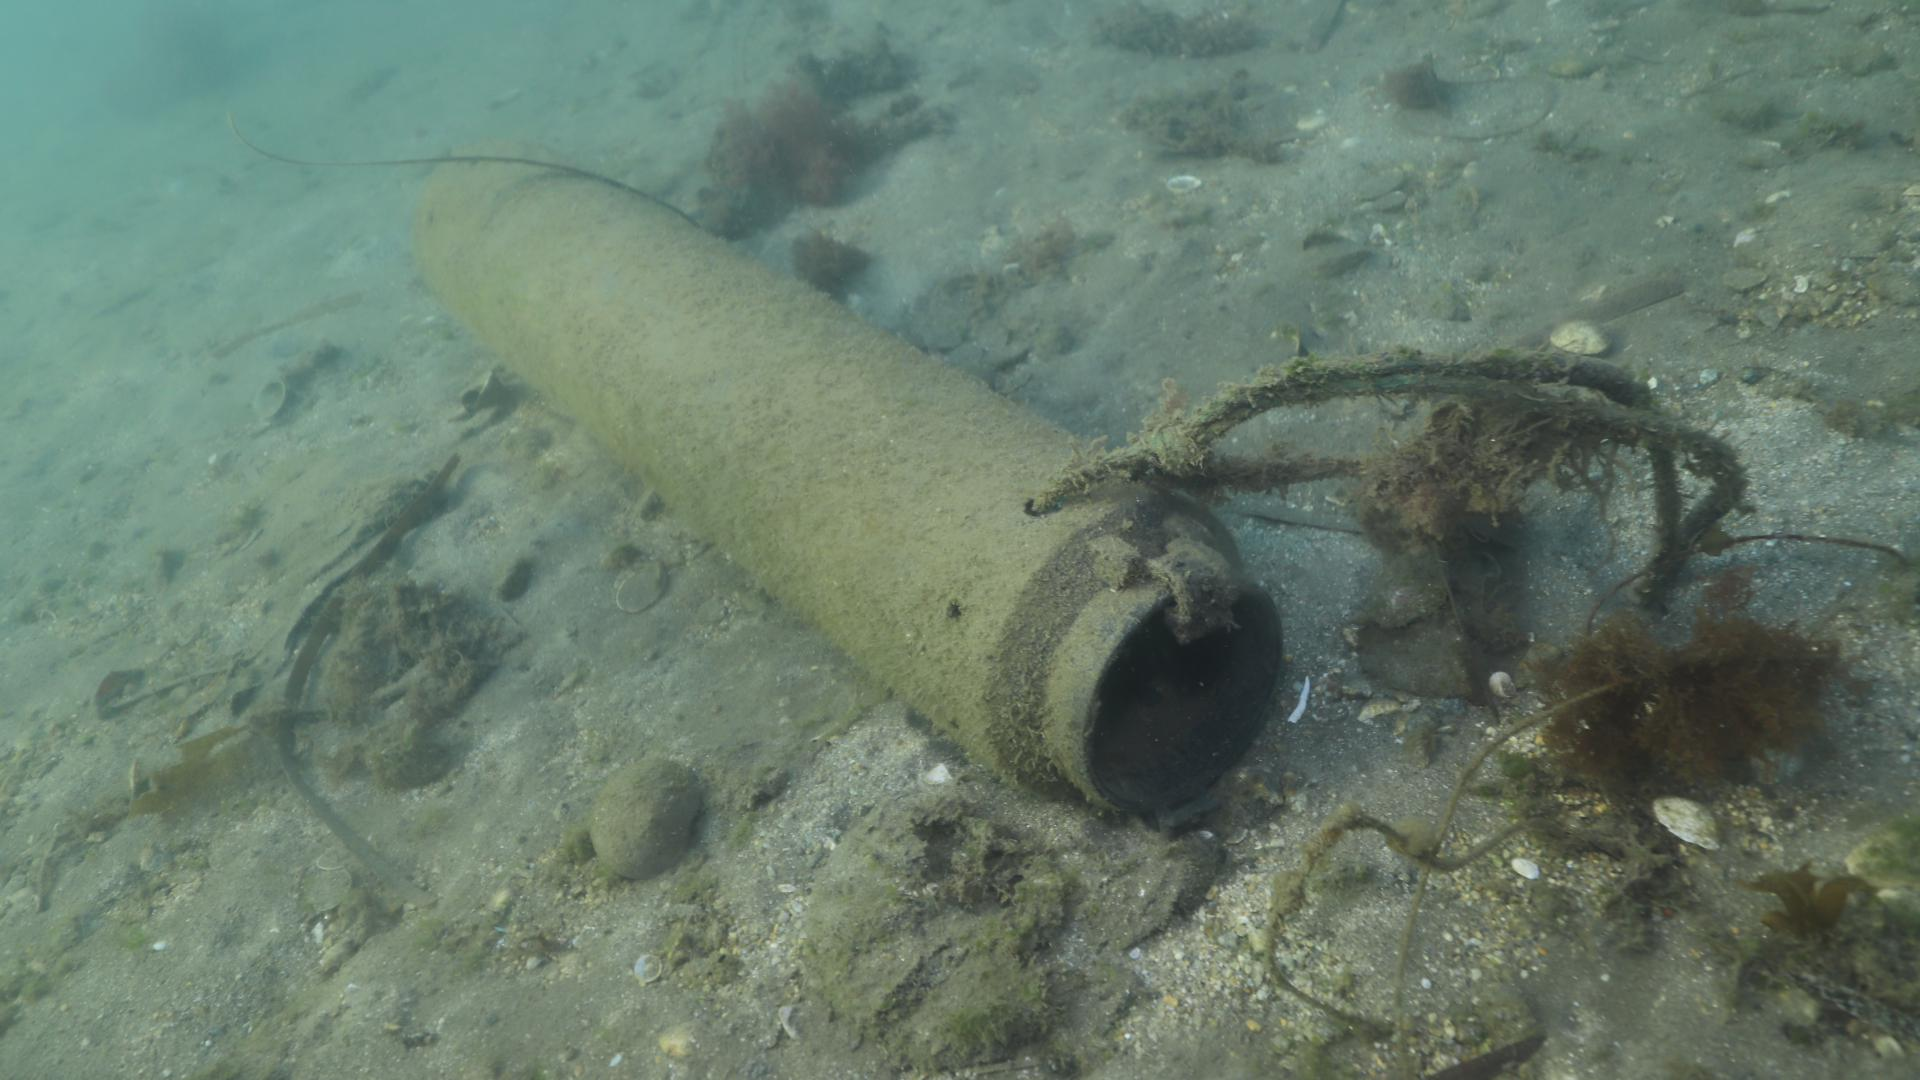bundle of ropes: (1027, 345, 1746, 597)
eel fish trap: (407, 148, 1283, 816)
